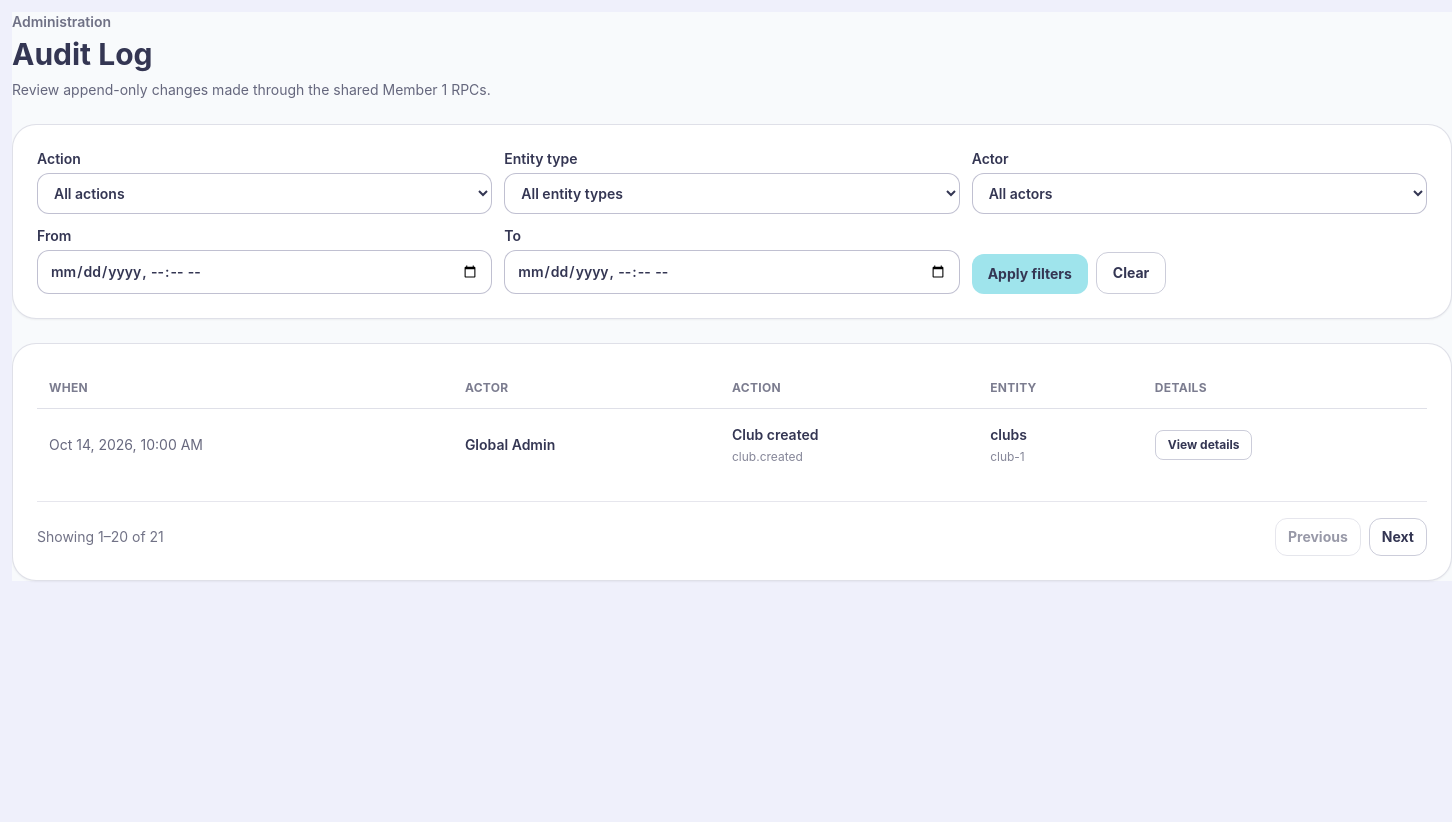
Test: AuditLogPage › applies filters and expands formatted details
Select "Club created" in the dropdown named "Filter by action": (265, 194) [37,173,492,214]
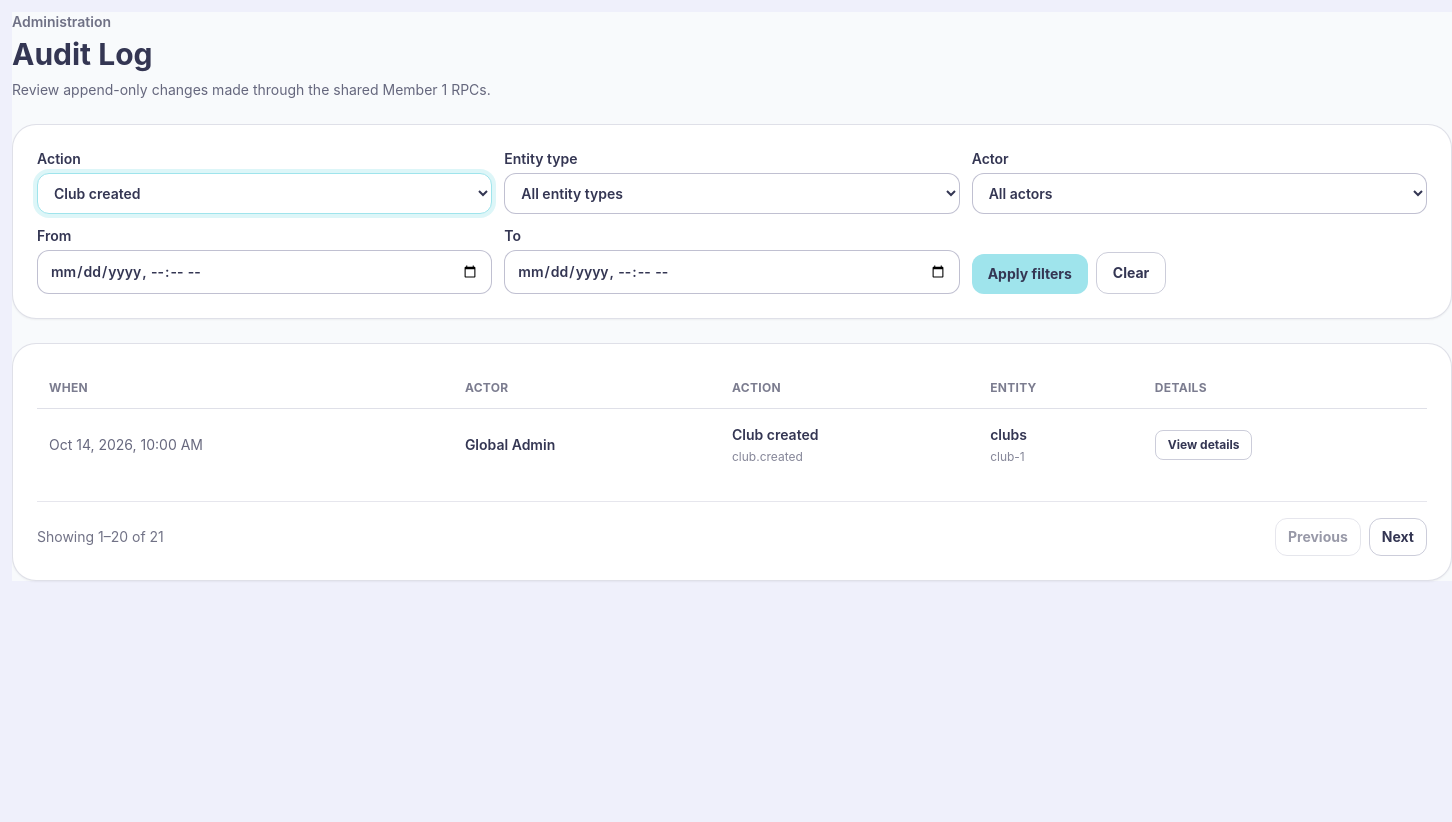
Click the button "Apply filters": (1030, 274) [972,254,1088,294]
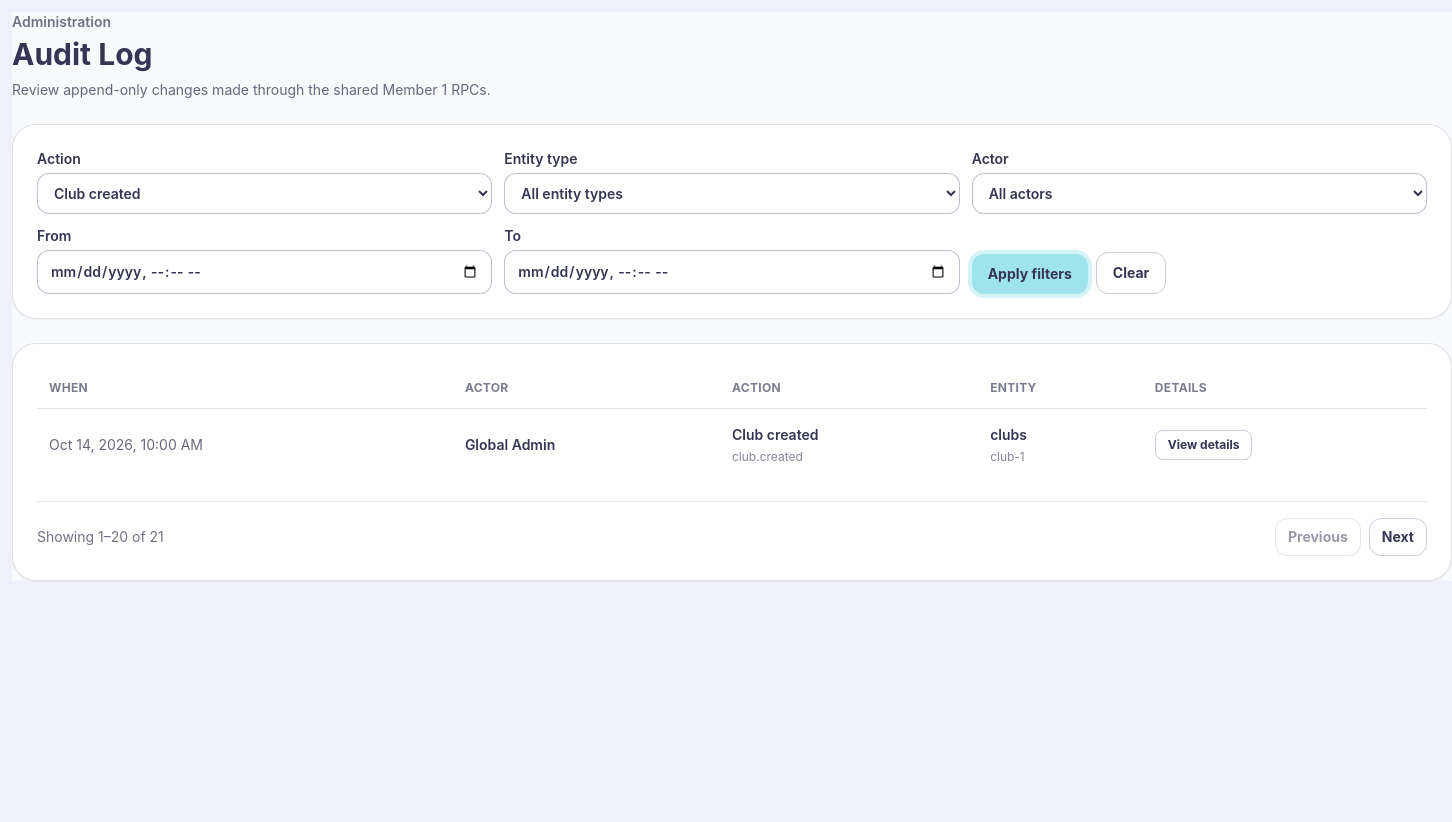
Click the button "View details": (1204, 445) [1155,430,1252,460]
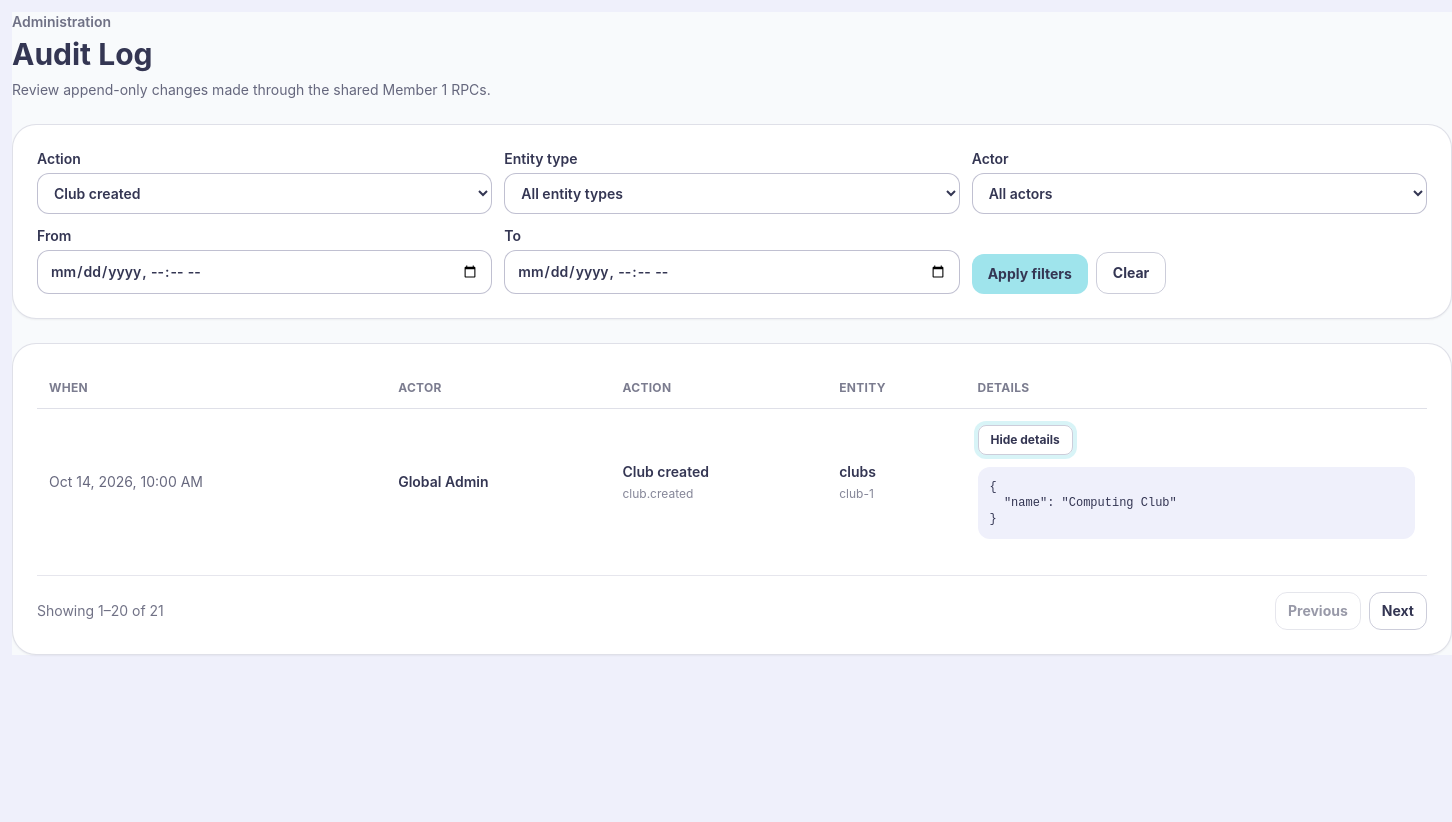
Now the text "{ \"name\": \"Computing Club\" }" is shown, box [978,467,1415,539]
